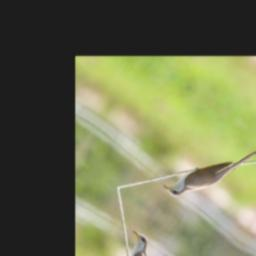Cuckoo: (161, 114, 256, 224)
